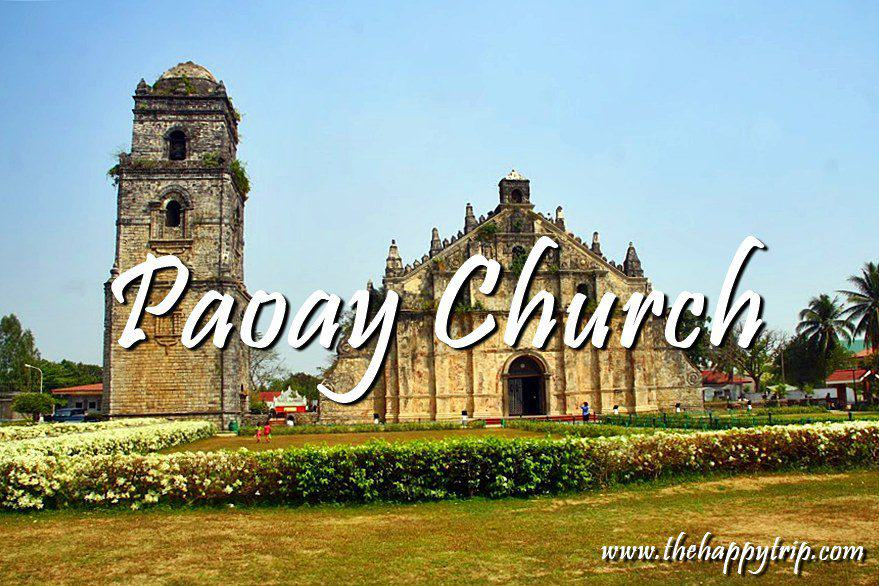Environmental Damage: (223, 157, 257, 198), (121, 155, 170, 175), (511, 249, 534, 283), (476, 221, 503, 244)
Paoay Church: (97, 54, 711, 413)
